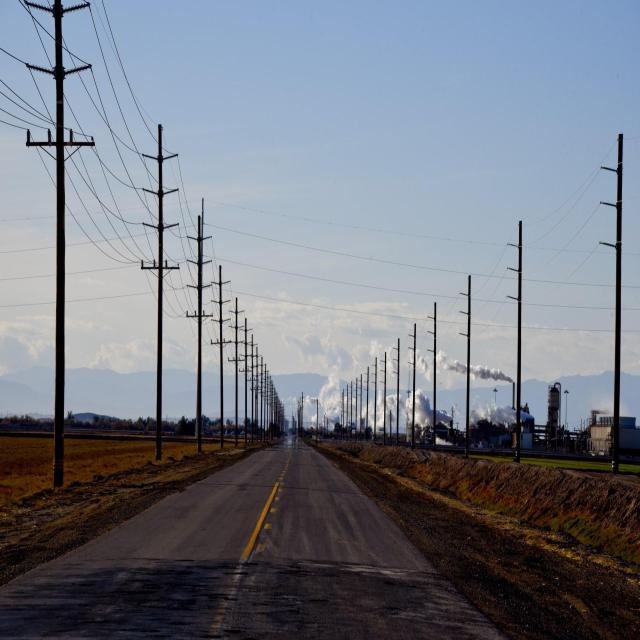pole: (46, 227, 72, 488), (608, 313, 627, 472), (153, 318, 169, 462)
